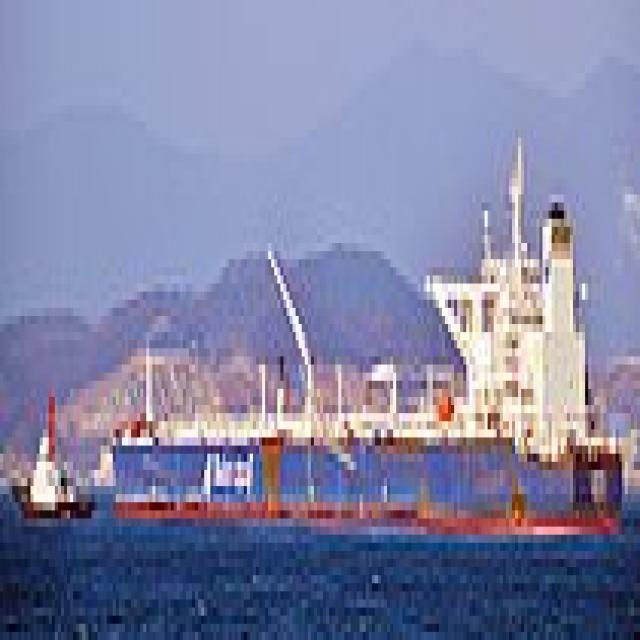Tanker: (103, 122, 624, 559)
